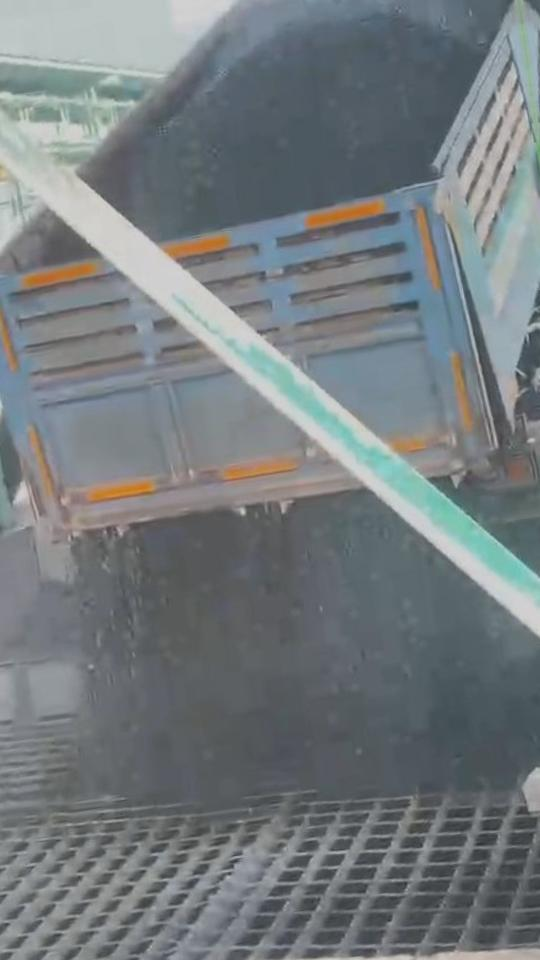gravel: (75, 493, 539, 806), (84, 0, 514, 239), (5, 215, 84, 268)
